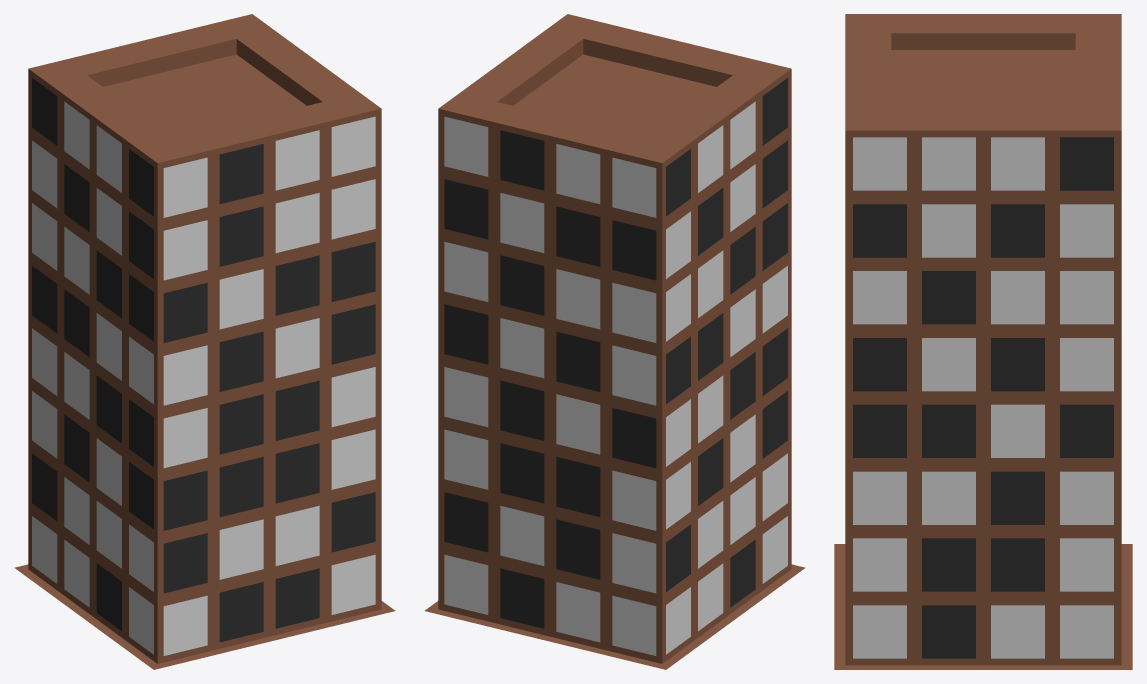
The model's file is BatimentNormal02.fbx.
The picture shows the model from 3 angles, left to right: view 1: azimuth 30°, elevation 25°; view 2: azimuth 150°, elevation 25°; view 3: azimuth 270°, elevation 25°; orthographic projection. The views are drawn at different scales.
Visible parts, largest first — view 1: BatimentNormal1; view 2: BatimentNormal1; view 3: BatimentNormal1.
Part boxes in pixels (x1,y1,x2,y2): BatimentNormal1: [14, 14, 395, 669]; BatimentNormal1: [424, 14, 805, 669]; BatimentNormal1: [834, 14, 1132, 669].
Bounding box in the file's own units: 1000 × 1978 × 1000.
